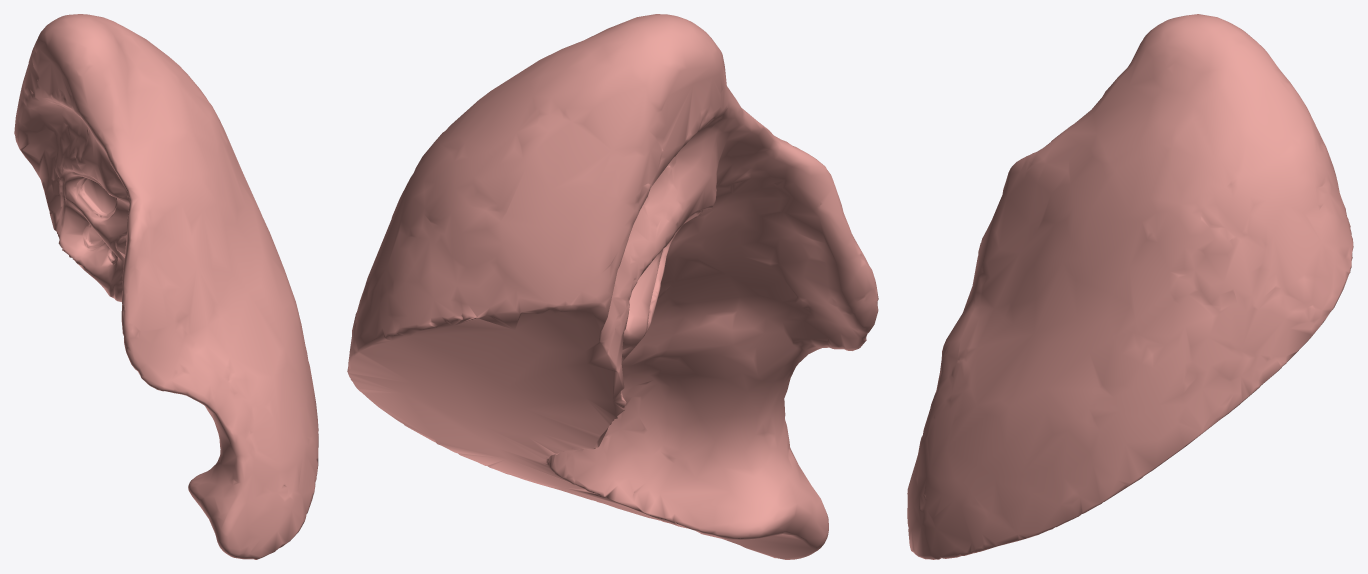
Rendered from Superior_lobe_left_lung.glb.
The picture shows the model from 3 angles, left to right: view 1: azimuth 30°, elevation 25°; view 2: azimuth 150°, elevation 25°; view 3: azimuth 270°, elevation 25°; orthographic projection. The views are drawn at different scales.
Parts seen in each view (by area): view 1: Superior_lobe_of_left_lung_Generated_Mesh_From_X3D.826; view 2: Superior_lobe_of_left_lung_Generated_Mesh_From_X3D.826; view 3: Superior_lobe_of_left_lung_Generated_Mesh_From_X3D.826.
Boxes of the visible parts, x1=… form: Superior_lobe_of_left_lung_Generated_Mesh_From_X3D.826: x1=14, y1=14, x2=318, y2=559; Superior_lobe_of_left_lung_Generated_Mesh_From_X3D.826: x1=347, y1=14, x2=878, y2=559; Superior_lobe_of_left_lung_Generated_Mesh_From_X3D.826: x1=907, y1=14, x2=1353, y2=559.
Size of the model in its own units: 0.1174 by 0.2149 by 0.173.
